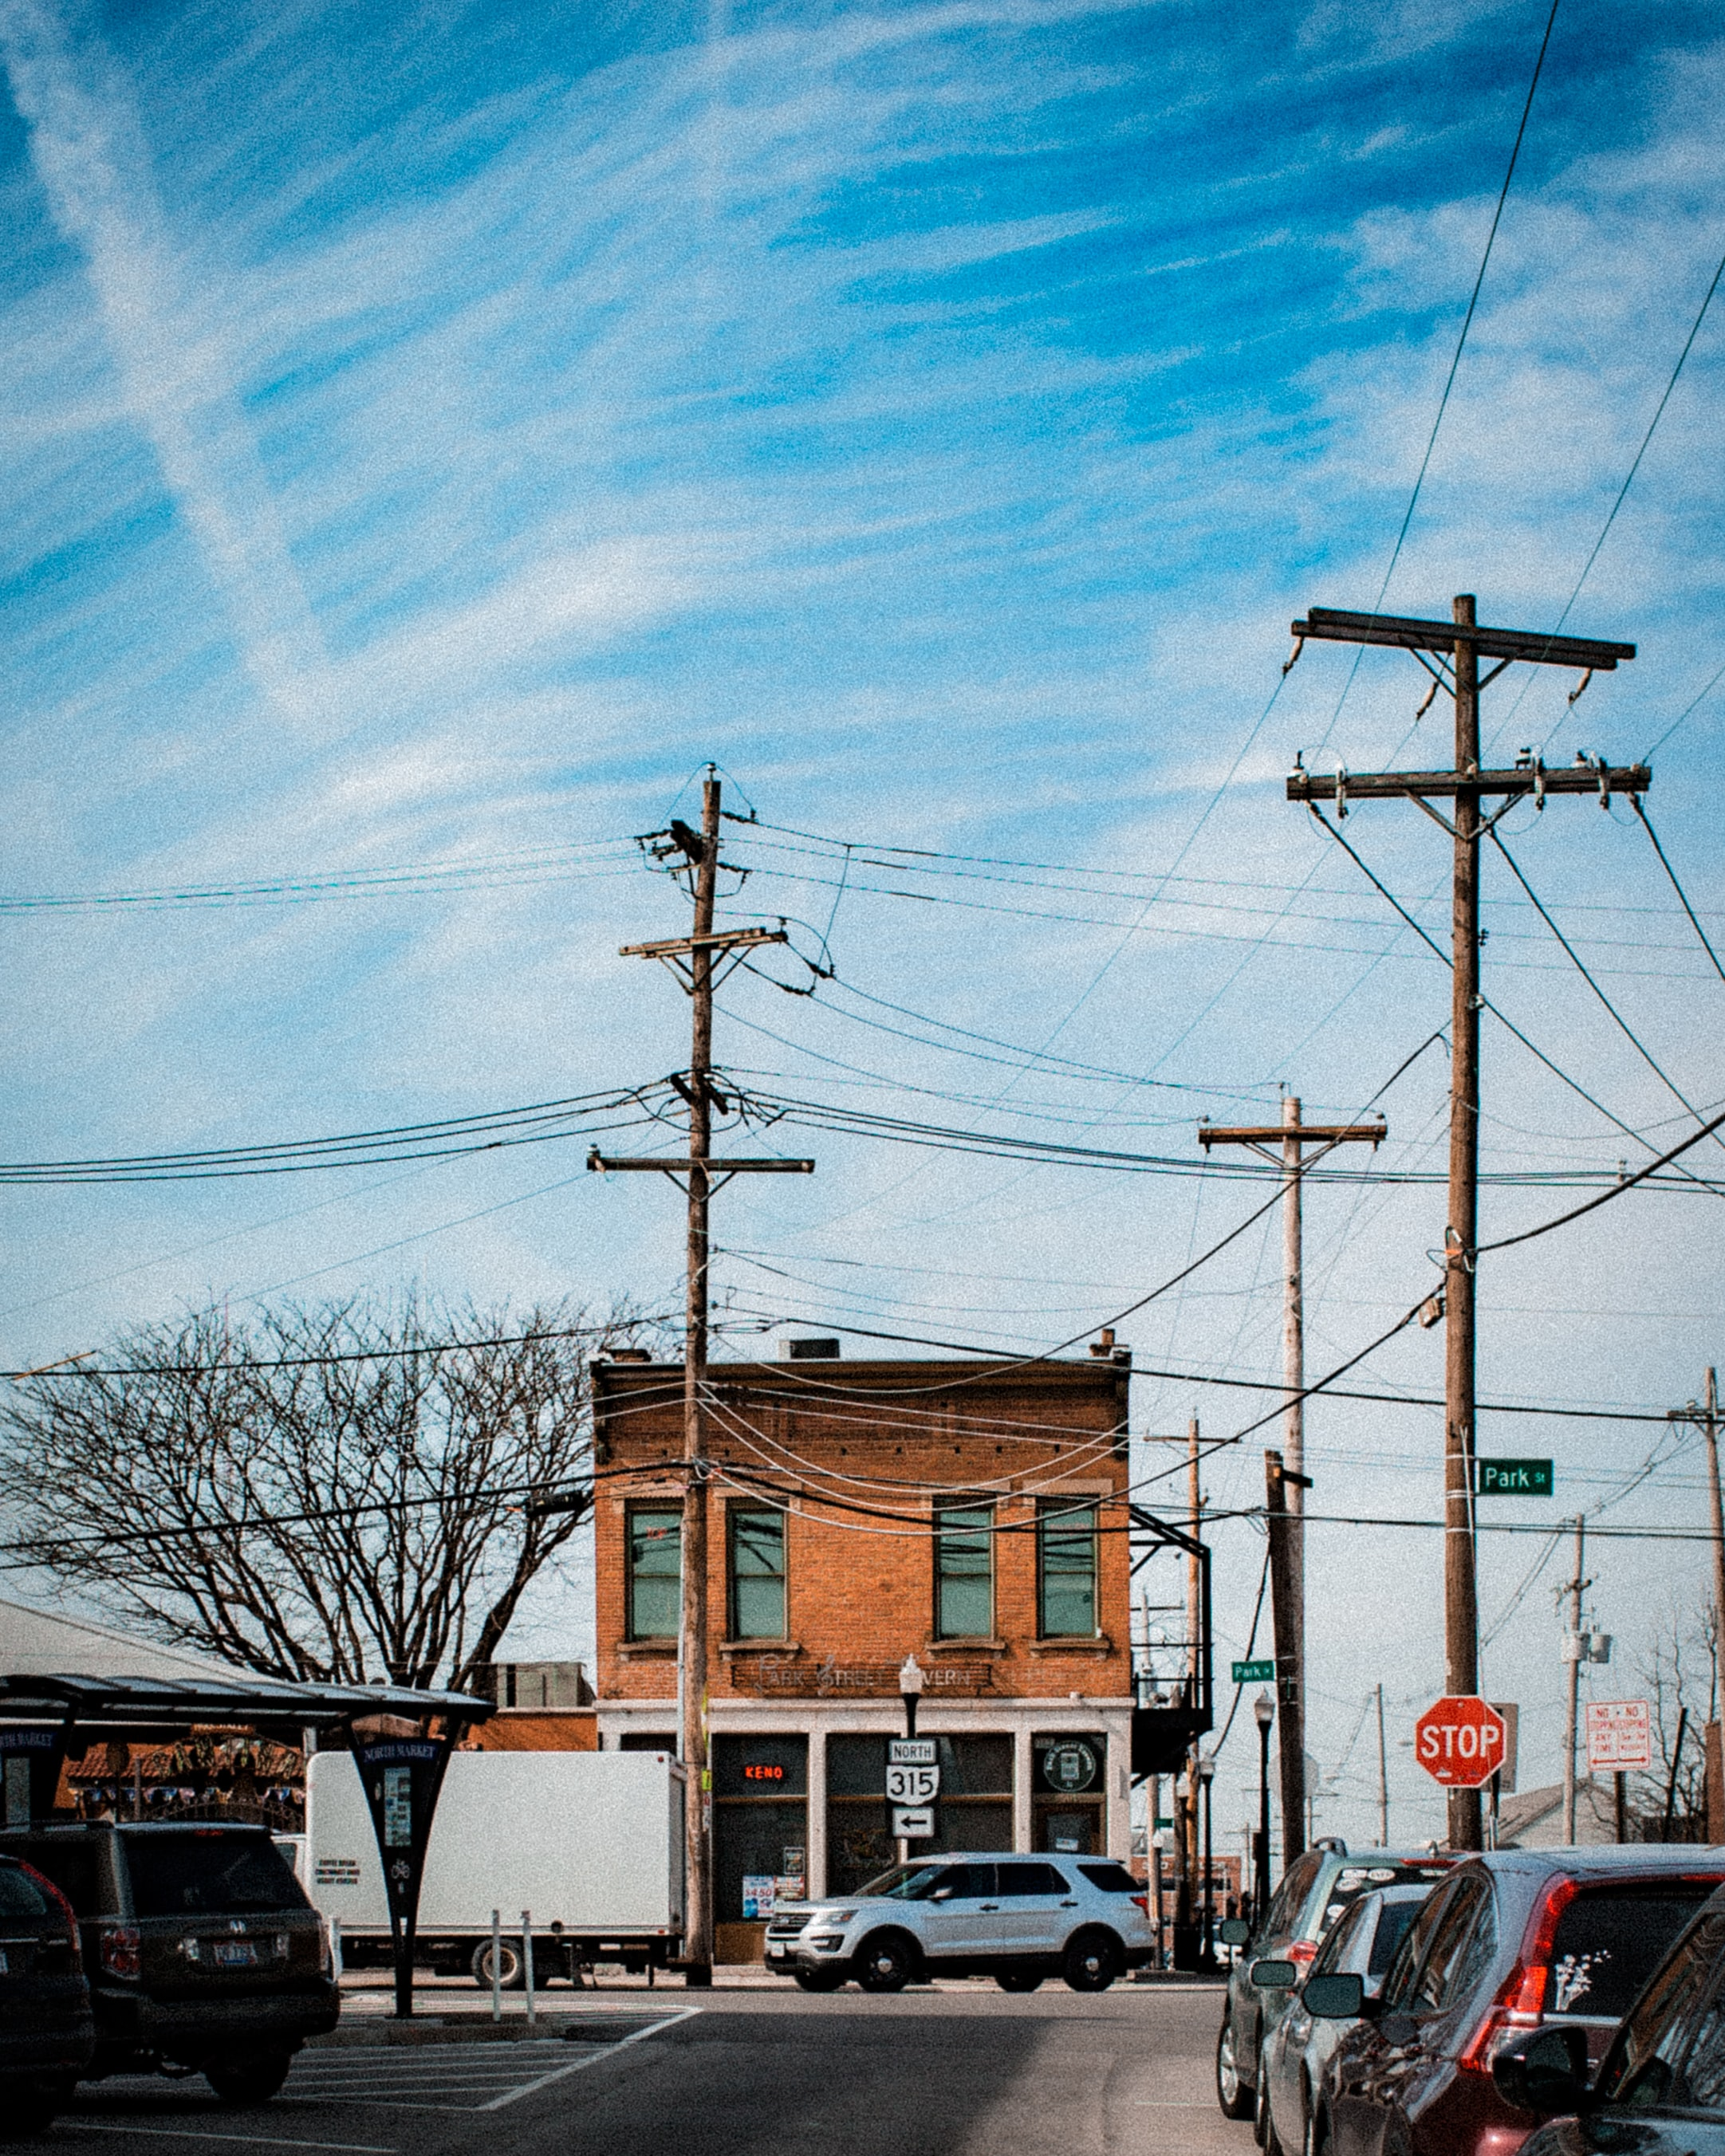utility_pole: (1241, 560, 1683, 947), (590, 734, 804, 1033), (1171, 1070, 1399, 1253)
